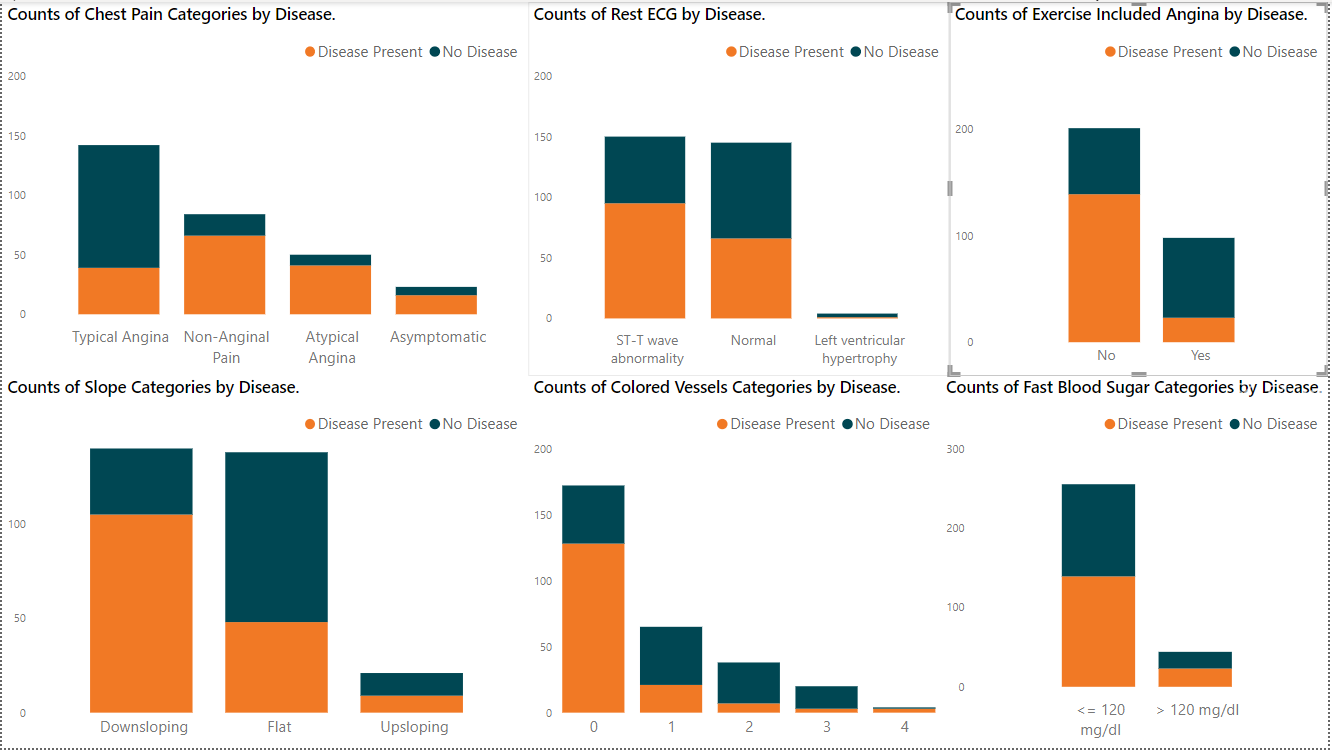

What the dashboard file says about the page in this screenshot:
{"tool":"powerbi","page":{"name":"Counts by Disease","canvas":[1280,720],"ordinal":3},"visuals":[{"type":"columnChart","title":"Counts of Chest Pain Categories by Disease.","fields":{"Category":["preprocesed heart disease.chest_pain"],"Y":["CountNonNull(preprocesed heart disease.chest_pain)"],"Series":["preprocesed heart disease.target"]},"box":[0,0,507.7,360.6],"z":0},{"type":"columnChart","title":"Counts of Rest ECG by Disease.","fields":{"Category":["preprocesed heart disease.rest_ecg"],"Y":["CountNonNull(preprocesed heart disease.rest_ecg)"],"Series":["preprocesed heart disease.target"]},"box":[507.7,0,406.4,360.6],"z":1000},{"type":"columnChart","title":"Counts of Exercise Included Angina by Disease.","fields":{"Category":["preprocesed heart disease.ex_angina"],"Y":["CountNonNull(preprocesed heart disease.ex_angina)"],"Series":["preprocesed heart disease.target"]},"box":[914.2,0,365.4,360.6],"z":2000},{"type":"columnChart","title":"Counts of Fast Blood Sugar Categories by Disease.","fields":{"Category":["preprocesed heart disease.fast_bld_sugar"],"Series":["preprocesed heart disease.target"],"Y":["CountNonNull(preprocesed heart disease.fast_bld_sugar)"]},"box":[905.7,359.4,373.9,360.6],"z":3000},{"type":"columnChart","title":"Counts of Colored Vessels Categories by Disease.","fields":{"Category":["preprocesed heart disease.colored_vessels"],"Series":["preprocesed heart disease.target"],"Y":["CountNonNull(preprocesed heart disease.colored_vessels)"]},"box":[507.7,359.4,398,360.6],"z":4000},{"type":"columnChart","title":"Counts of Slope Categories by Disease.","fields":{"Category":["preprocesed heart disease.slope"],"Series":["preprocesed heart disease.target"],"Y":["CountNonNull(preprocesed heart disease.slope)"]},"box":[0,359.4,507.7,360.6],"z":5000}]}

Visuals, with their boxes in screenshot pixels (x1, y1, x2, y2), scaled from the page's 1280x720 canvas onto the 1332x752 screenshot:
"Counts of Chest Pain Categories by Disease." columnChart: [left=0, top=0, right=528, bottom=377]
"Counts of Rest ECG by Disease." columnChart: [left=528, top=0, right=951, bottom=377]
"Counts of Exercise Included Angina by Disease." columnChart: [left=951, top=0, right=1331, bottom=377]
"Counts of Fast Blood Sugar Categories by Disease." columnChart: [left=942, top=375, right=1331, bottom=751]
"Counts of Colored Vessels Categories by Disease." columnChart: [left=528, top=375, right=942, bottom=751]
"Counts of Slope Categories by Disease." columnChart: [left=0, top=375, right=528, bottom=751]
